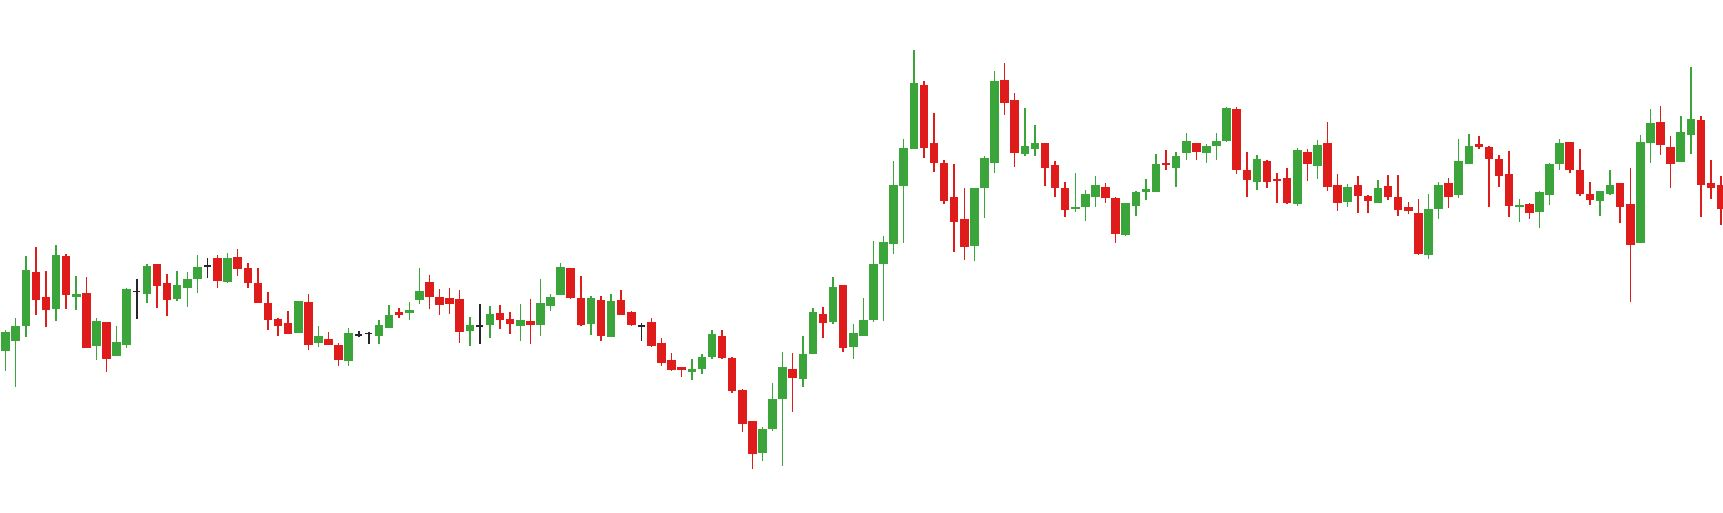sell: (416, 263, 576, 321), (1644, 68, 1697, 171)
